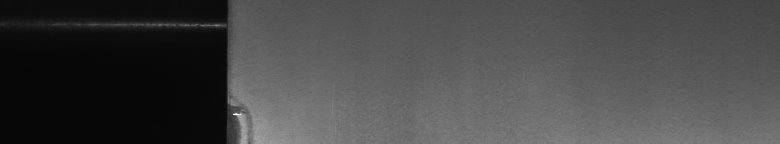hb: (236, 96, 259, 136)
